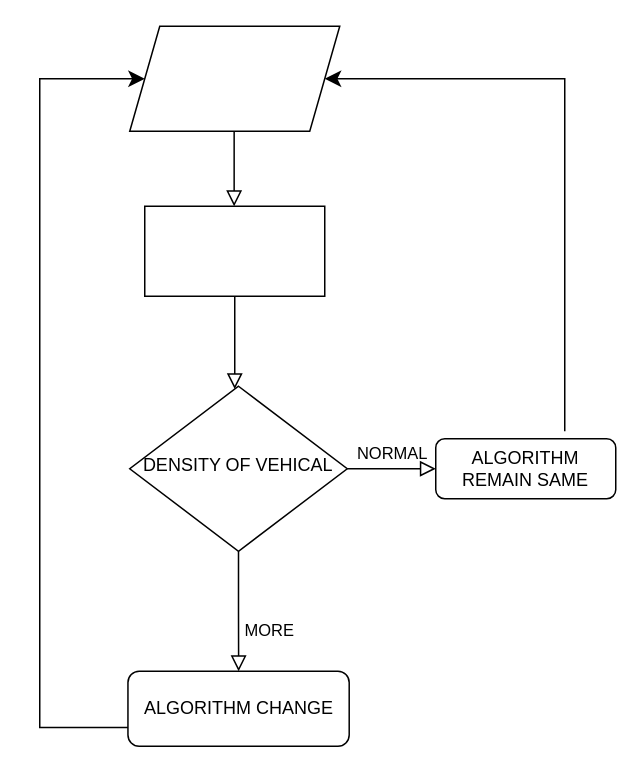
Some shapes in this 642 by 773 pixel diagram are drawn without their labels. Here are the shapes that lost their labels. From the top down, the box of each, then its label:
(128, 25, 340, 131): ULTRASONIC SENSOR
(143, 205, 325, 296): ARDUINO
